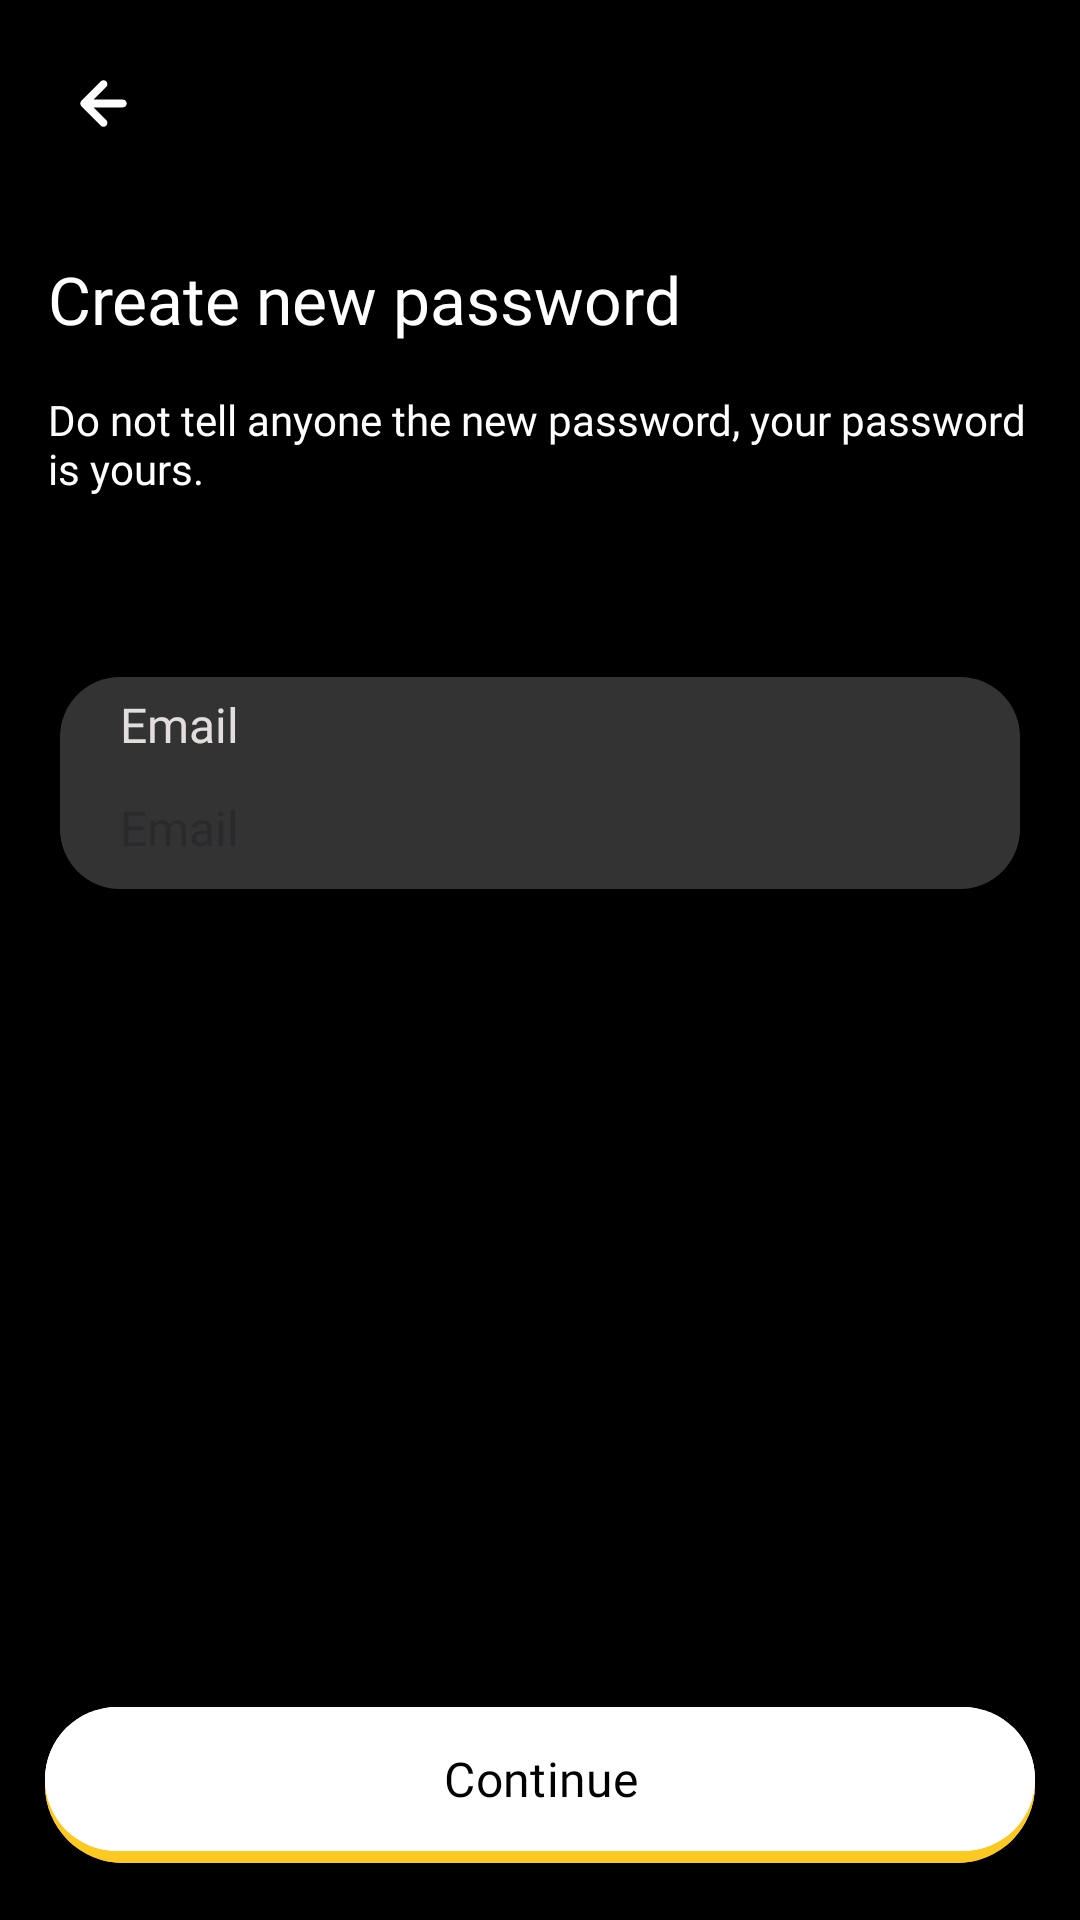

Screen size 1080×1920. Icon name, then its center in pixels as (x=x, y=y):
back: (x=103, y=103)
